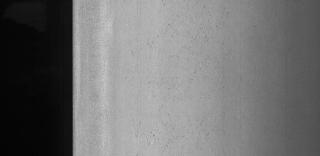silk spot: (135, 0, 223, 144)
